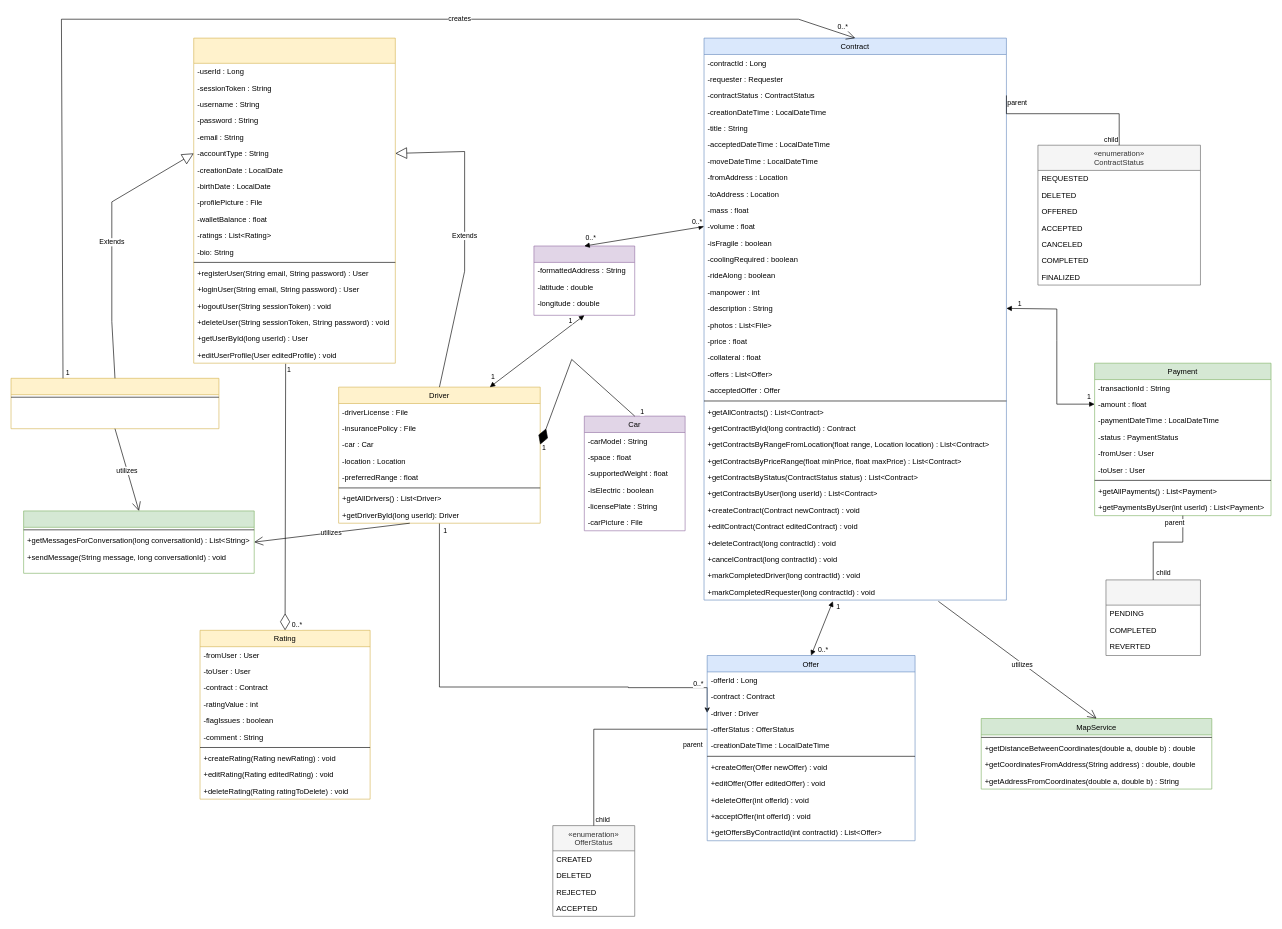
The diagram is 1282 pixels wide and 929 high, and some of its shapes have lost their labels. The shapes that lost their labels are listed below. From the top down, each one's box as (x1, y1, x2, y2) in pixels, then its label:
(193, 37, 395, 363): «abstract» User
(533, 245, 635, 315): Location
(10, 378, 219, 429): Requester
(23, 510, 254, 573): ChatService
(1105, 579, 1200, 656): «enumeration» PaymentStatus
